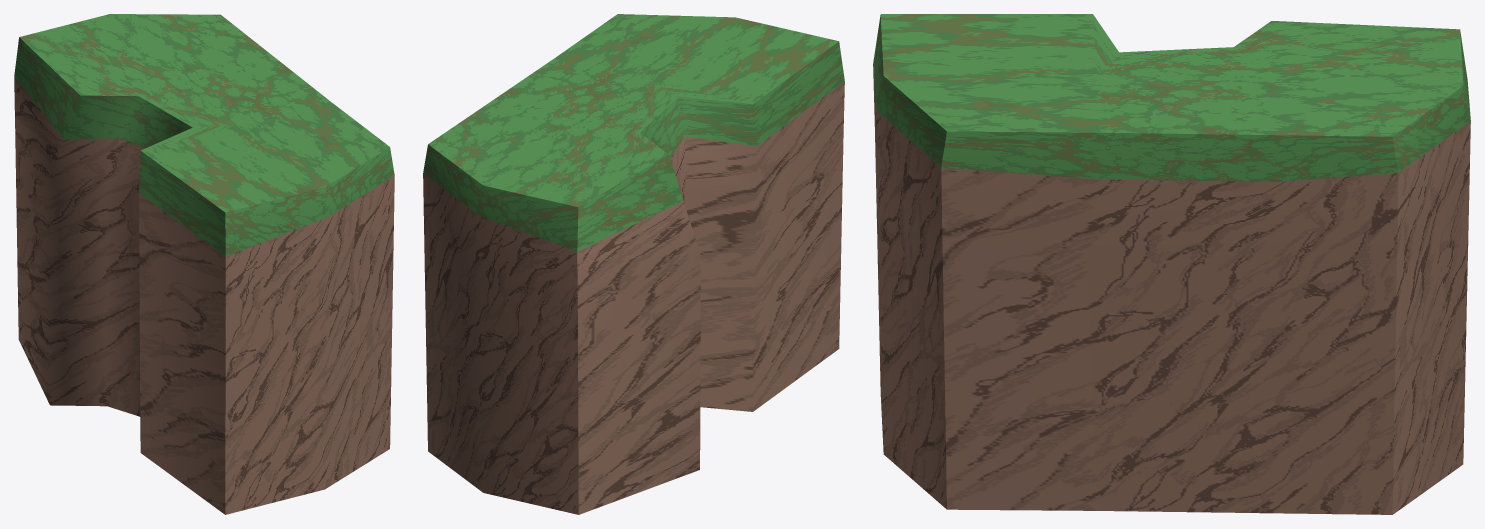
Rendered from Earth_BlockE.fbx.
3 views of the same model, side by side, from view 1: azimuth 30°, elevation 25°; view 2: azimuth 150°, elevation 25°; view 3: azimuth 270°, elevation 25° (orthographic). The views are drawn at different scales.
Visible parts, largest first — view 1: Earth_BlockE; view 2: Earth_BlockE; view 3: Earth_BlockE.
Part boxes in pixels (left/top/right/bottom): Earth_BlockE: left=14, top=14, right=394, bottom=514; Earth_BlockE: left=423, top=14, right=844, bottom=514; Earth_BlockE: left=873, top=14, right=1470, bottom=514.
Bounding box in the file's own units: 995 × 1288 × 1841.
